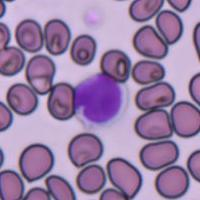M: (72, 72, 128, 128)
